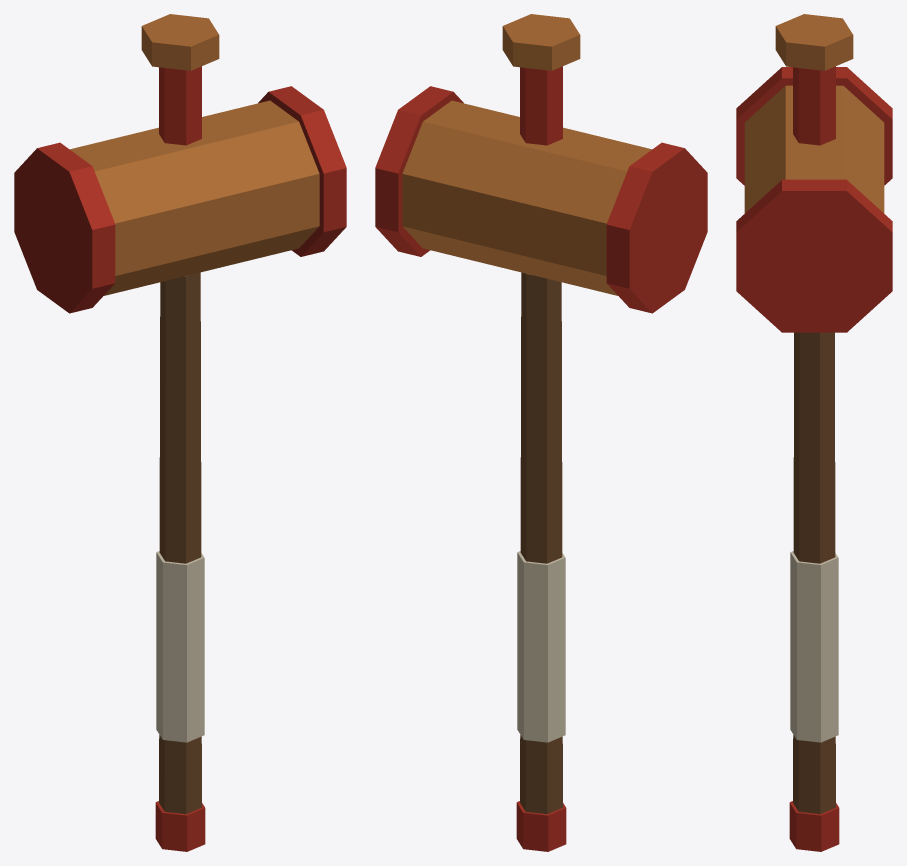
The model's file is weapon_warhammer.glb.
The picture shows the model from 3 angles, left to right: view 1: azimuth 30°, elevation 25°; view 2: azimuth 150°, elevation 25°; view 3: azimuth 270°, elevation 25°; orthographic projection.
Parts seen in each view (by area): view 1: gnome_weapon_warhammer; view 2: gnome_weapon_warhammer; view 3: gnome_weapon_warhammer.
Boxes of the visible parts, bbox=[...] form: gnome_weapon_warhammer: bbox=[14, 14, 346, 851]; gnome_weapon_warhammer: bbox=[375, 14, 707, 851]; gnome_weapon_warhammer: bbox=[736, 14, 892, 851].
Bounding box in the file's own units: 0.396 × 1.21 × 0.2106.
